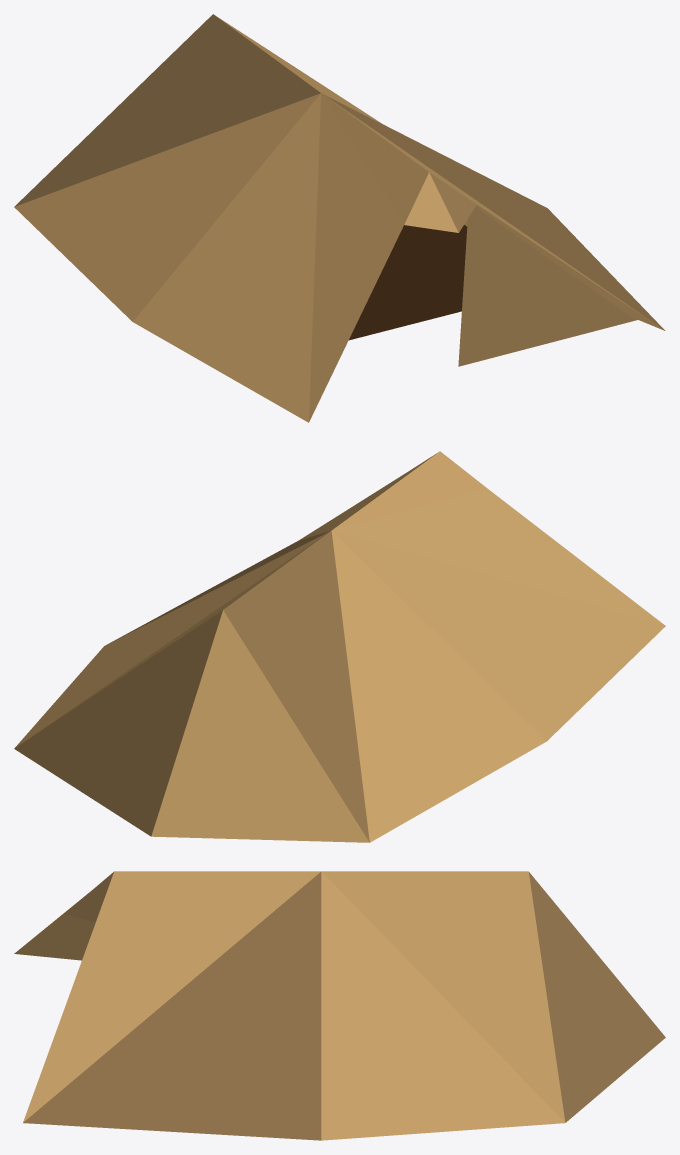
File: Tent_2.fbx
3 renders of one model, top to bottom at view 1: azimuth 30°, elevation 25°; view 2: azimuth 150°, elevation 25°; view 3: azimuth 270°, elevation 25°, orthographic. The views are drawn at different scales.
Visible parts, largest first — view 1: Tent_2; view 2: Tent_2; view 3: Tent_2.
Part boxes in pixels (box(x1,y1,x2,y2)): Tent_2: box(14, 14, 665, 422); Tent_2: box(14, 451, 665, 842); Tent_2: box(14, 871, 665, 1140).
Size of the model in its own units: 462 by 179 by 635.
